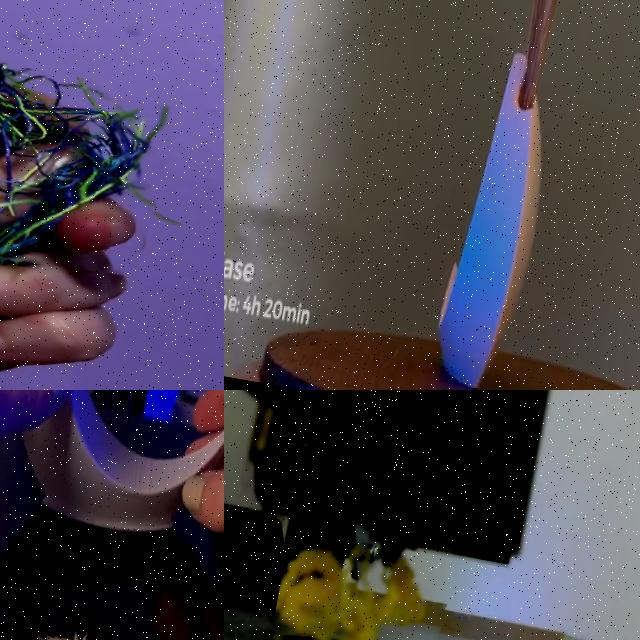spaghetti: (0, 44, 185, 290), (267, 529, 459, 640)
